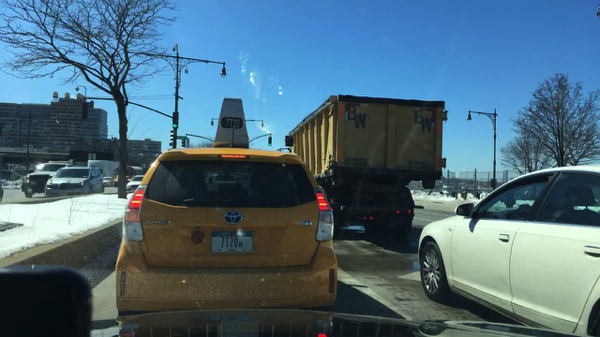bus: (113, 164, 144, 189)
car: (114, 97, 339, 316), (419, 164, 599, 336), (44, 165, 107, 196), (125, 174, 145, 193), (0, 169, 24, 182), (101, 175, 117, 188)
traffic light: (81, 103, 89, 120), (174, 112, 179, 128), (268, 136, 272, 147), (170, 130, 174, 140), (182, 142, 185, 147)
traffic sign: (177, 136, 188, 140)
truck: (284, 93, 448, 239), (21, 158, 74, 199), (87, 160, 124, 178)
